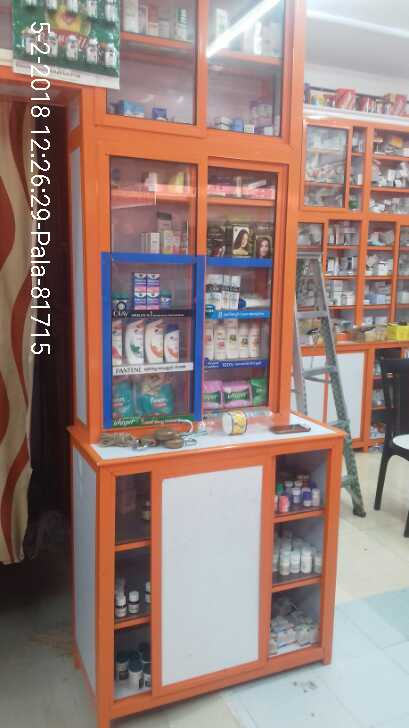vicks: (113, 271, 176, 317)
